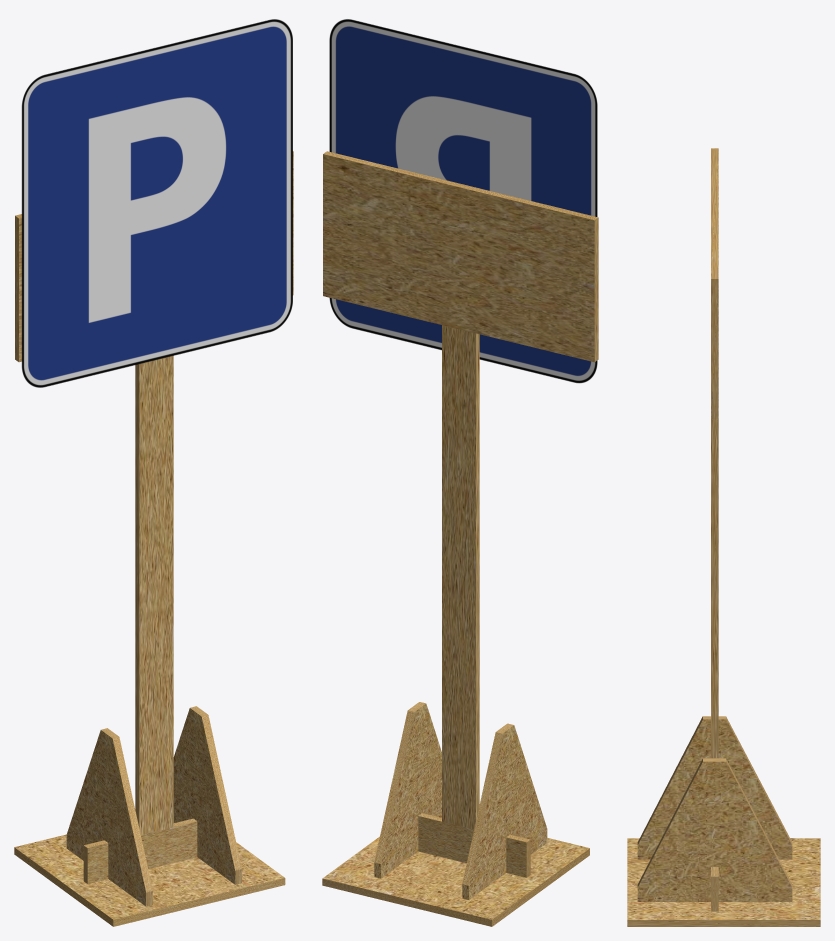
The model's file is parkingsign.glb.
The picture shows the model from 3 angles, left to right: view 1: azimuth 30°, elevation 25°; view 2: azimuth 150°, elevation 25°; view 3: azimuth 270°, elevation 25°; orthographic projection. The views are drawn at different scales.
Visible parts, largest first — view 1: Plane.001; view 2: Plane.001; view 3: Plane.001.
Part boxes in pixels (box(x1,y1,x2,y2)): Plane.001: box(14, 19, 293, 926); Plane.001: box(322, 19, 598, 926); Plane.001: box(627, 148, 820, 926).
Size of the model in its own units: 0.1321 by 0.3804 by 0.0826.
Materials: 2 (2 with a texture image).
